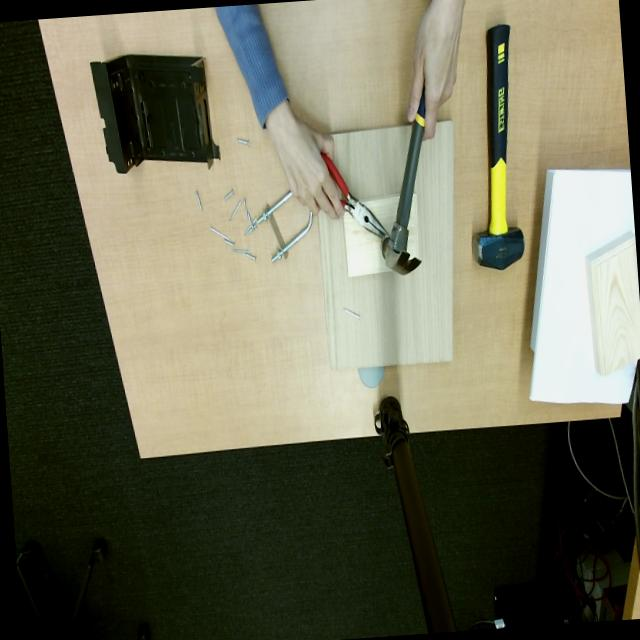hammer: (472, 24, 524, 270), (381, 86, 426, 274)
pliers: (321, 153, 388, 240)
